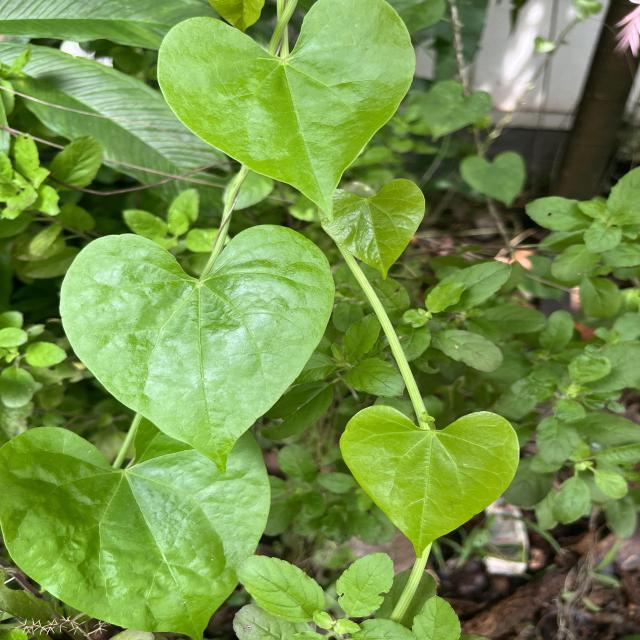Tinospora cordifolia: (55, 218, 338, 478), (153, 0, 420, 227), (336, 402, 524, 562)
